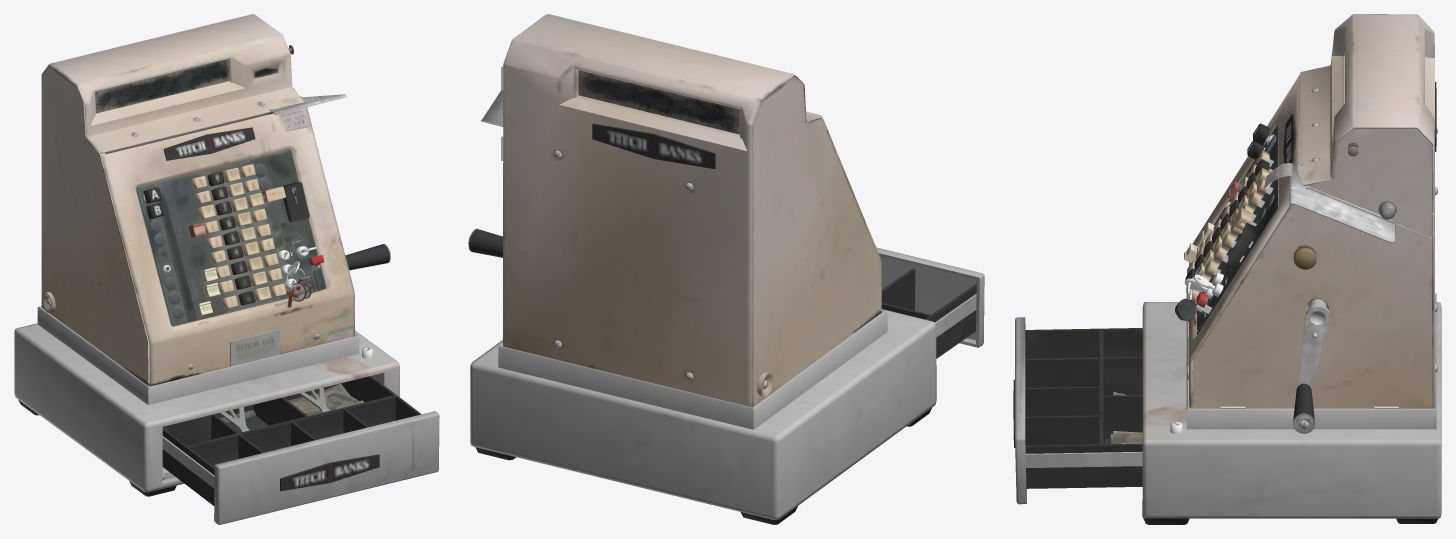
File: CashRegister_01.glb
3 renders of one model, left to right at view 1: azimuth 30°, elevation 25°; view 2: azimuth 150°, elevation 25°; view 3: azimuth 270°, elevation 25°, orthographic. The views are drawn at different scales.
Parts seen in each view (by area): view 1: CashRegister_01_body; view 2: CashRegister_01_body; view 3: CashRegister_01_body.
Part boxes in pixels (x1,y1,x2,y2): CashRegister_01_body: (14, 14, 439, 524); CashRegister_01_body: (468, 14, 984, 524); CashRegister_01_body: (1013, 14, 1441, 524).
Size of the model in its own units: 0.6005 by 0.6212 by 0.6242.
2 materials, 2 textured.
